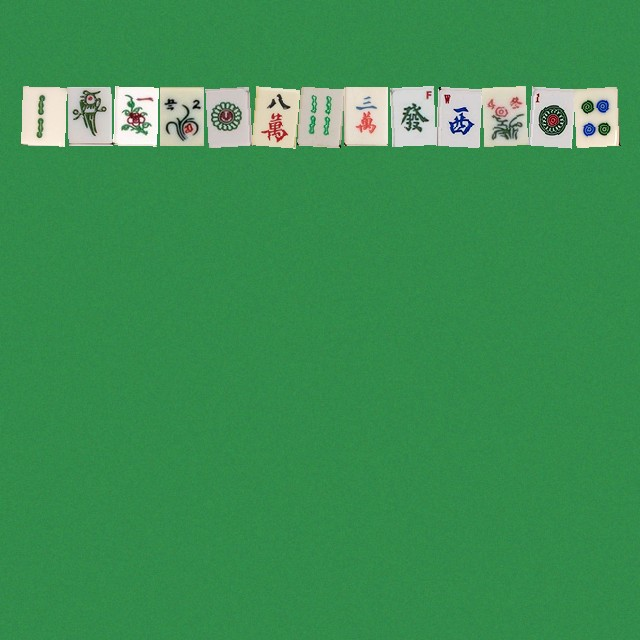tile: (21, 86, 65, 145), (67, 86, 111, 145), (113, 86, 157, 145), (159, 86, 203, 145), (205, 86, 249, 145), (251, 86, 295, 145), (297, 86, 341, 145), (343, 86, 387, 145), (389, 86, 433, 145), (435, 86, 479, 145), (481, 86, 525, 145), (527, 86, 571, 145), (573, 86, 617, 145)
